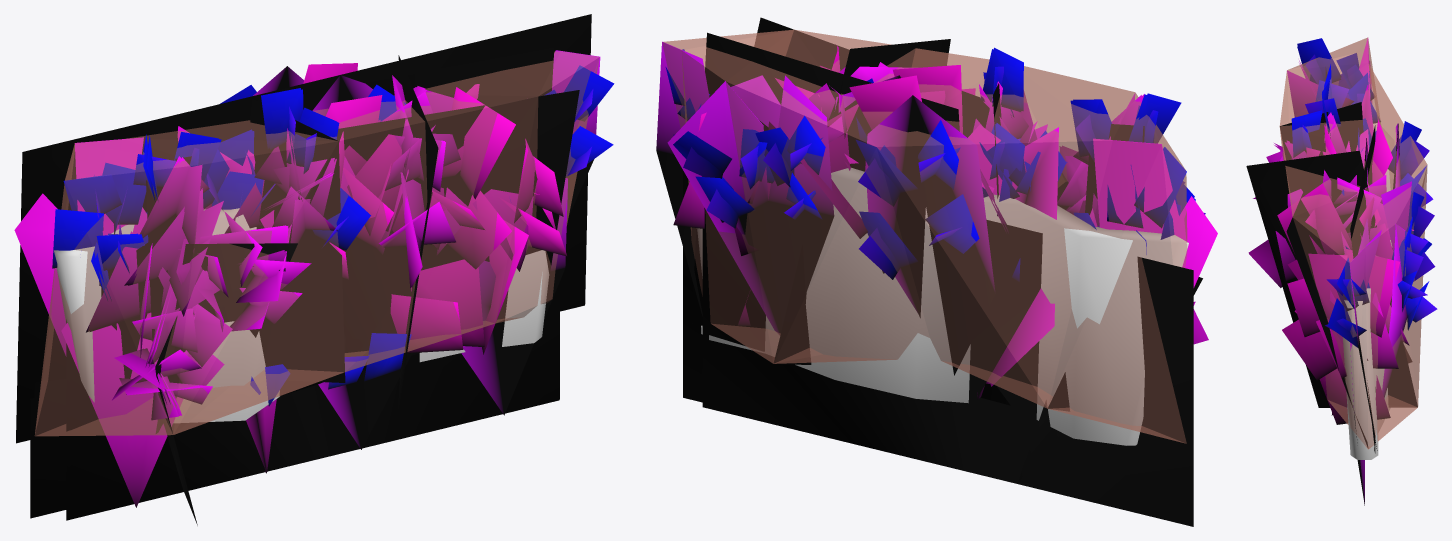
The model's file is oak_beech_wallblocker_long.dae.
The picture shows the model from 3 angles, left to right: view 1: azimuth 30°, elevation 25°; view 2: azimuth 150°, elevation 25°; view 3: azimuth 270°, elevation 25°; orthographic projection. The views are drawn at different scales.
Parts seen in each view (by area): view 1: Colmesh_oak_beech_wallblocker-1, oak_beech_wallblocker_long_a500, oak_beech_wallblocker_long_a800, oak_beech_wallblocker_long_a200; view 2: Colmesh_oak_beech_wallblocker-1, oak_beech_wallblocker_long_a200, oak_beech_wallblocker_long_a800, oak_beech_wallblocker_long_a500; view 3: oak_beech_wallblocker_long_a800, Colmesh_oak_beech_wallblocker-1, oak_beech_wallblocker_long_a200, oak_beech_wallblocker_long_a500.
Boxes of the visible parts, box(x1,y1,x2,y2) form: Colmesh_oak_beech_wallblocker-1: box(34, 51, 599, 436); oak_beech_wallblocker_long_a500: box(15, 50, 600, 525); oak_beech_wallblocker_long_a800: box(14, 65, 614, 516); oak_beech_wallblocker_long_a200: box(16, 14, 591, 520); Colmesh_oak_beech_wallblocker-1: box(662, 29, 1188, 445); oak_beech_wallblocker_long_a200: box(673, 32, 1195, 526); oak_beech_wallblocker_long_a800: box(656, 17, 1217, 399); oak_beech_wallblocker_long_a500: box(662, 39, 1217, 485); oak_beech_wallblocker_long_a800: box(1246, 38, 1437, 505); Colmesh_oak_beech_wallblocker-1: box(1279, 37, 1427, 459); oak_beech_wallblocker_long_a200: box(1248, 38, 1413, 453); oak_beech_wallblocker_long_a500: box(1274, 38, 1381, 448).
Bounding box in the file's own units: 19.09 × 6.81 × 13.2.
